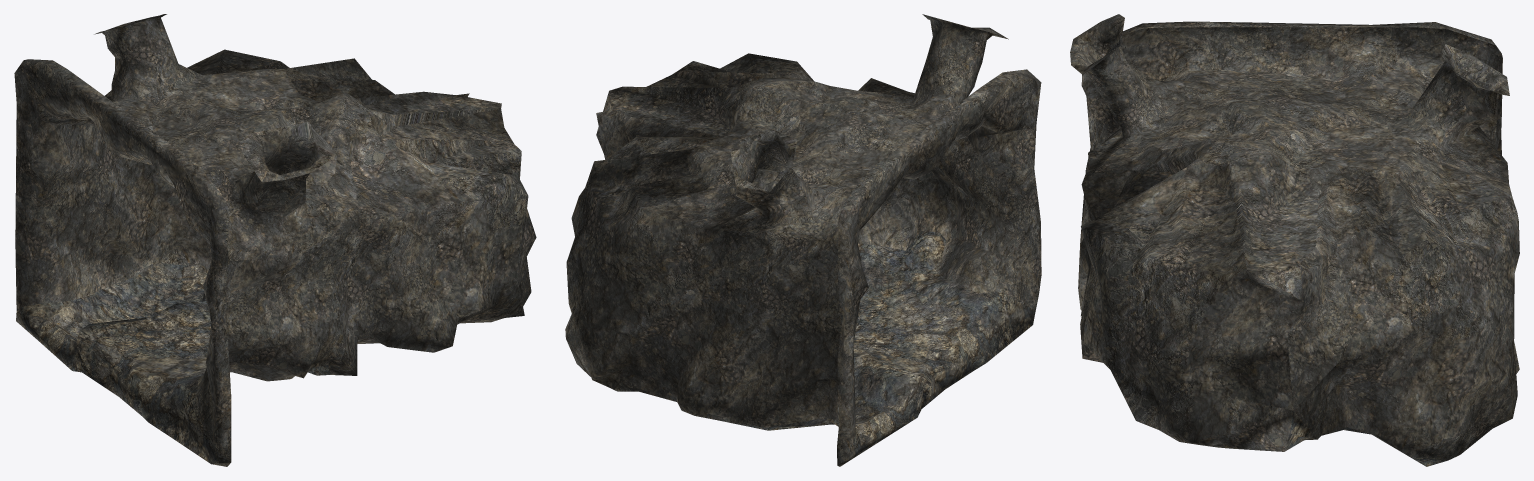
File: Cave9.fbx
The picture shows the model from 3 angles, left to right: view 1: azimuth 30°, elevation 25°; view 2: azimuth 150°, elevation 25°; view 3: azimuth 270°, elevation 25°; orthographic projection. The views are drawn at different scales.
Parts seen in each view (by area): view 1: Cave9; view 2: Cave9; view 3: Cave9.
Boxes of the visible parts, <box> form: Cave9: <box>14,14,536,466</box>; Cave9: <box>565,14,1041,466</box>; Cave9: <box>1070,14,1519,466</box>.
Bounding box in the file's own units: 196 × 154 × 191.
